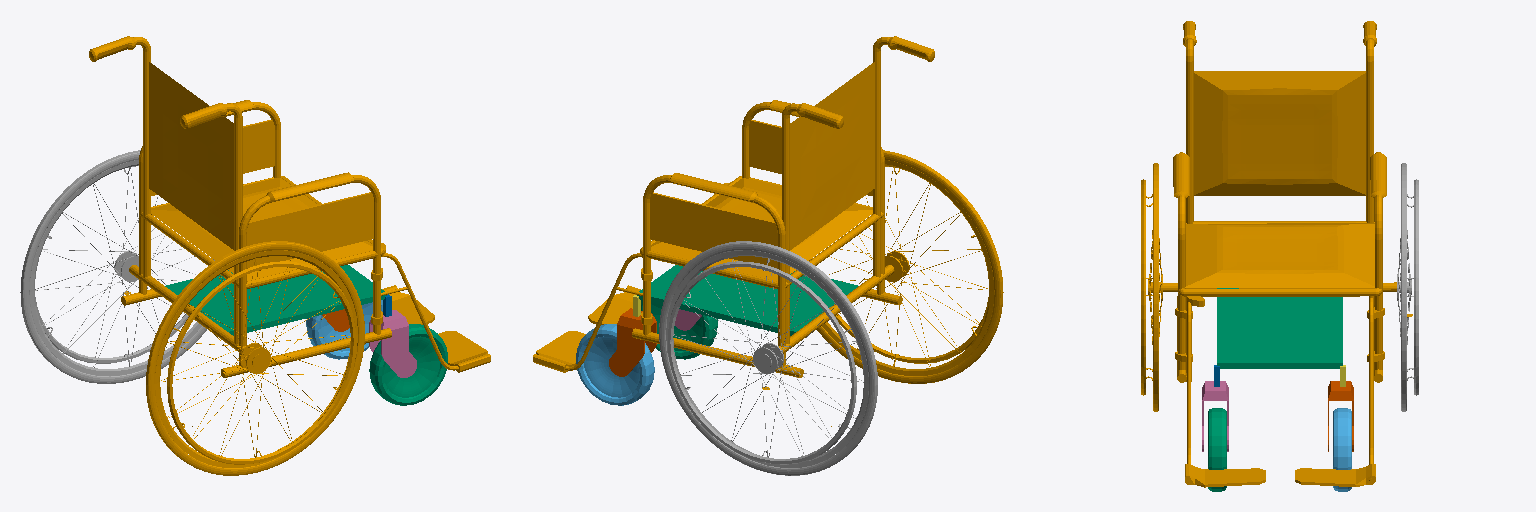
robot.urdf — wheelchair:
<?xml version="1.0" encoding="utf-8"?>
<!-- =================================================================================== -->
<!-- |    This document was autogenerated by xacro from src/wheelchair_description/urdf/wheelchair.xacro | -->
<!-- |    EDITING THIS FILE BY HAND IS NOT RECOMMENDED                                 | -->
<!-- =================================================================================== -->
<robot name="wheelchair" xmlns:xacro="http://www.ros.org/wiki/xacro">
  <gazebo>
    <plugin filename="libgazebo_ros_diff_drive.so" name="differential_drive_controller">
      <legacyMode>false</legacyMode>
      <alwaysOn>true</alwaysOn>
      <updateRate>20</updateRate>
      <leftJoint>axel_l_joint</leftJoint>
      <rightJoint>axel_r_joint</rightJoint>
      <wheelSeparation>0.403568</wheelSeparation>
      <wheelDiameter>0.403568</wheelDiameter>
      <torque>20</torque>
      <commandTopic>cmd_vel</commandTopic>
      <odometryTopic>odom</odometryTopic>
      <odometryFrame>odom</odometryFrame>
      <robotBaseFrame>footprint</robotBaseFrame>
    </plugin>
  </gazebo>
  <gazebo reference="footprint">
    <material>Gazebo/Green</material>
  </gazebo>
  <gazebo reference="l">
    <material>Gazebo/Blue</material>
  </gazebo>
  <gazebo reference="r">
    <material>Gazebo/Blue</material>
  </gazebo>
  <gazebo reference="lf">
    <material>Gazebo/Blue</material>
  </gazebo>
  <gazebo reference="rf">
    <material>Gazebo/Blue</material>
  </gazebo>
  <material name="black">
    <color rgba="0.0 0.0 0.0 1.0"/>
  </material>
  <material name="blue">
    <color rgba="0.0 0.0 0.8 1.0"/>
  </material>
  <material name="green">
    <color rgba="0.0 0.8 0.0 1.0"/>
  </material>
  <material name="grey">
    <color rgba="0.2 0.2 0.2 1.0"/>
  </material>
  <material name="orange">
    <color rgba="1.0 0.423529411765 0.0392156862745 1.0"/>
  </material>
  <material name="brown">
    <color rgba="0.870588235294 0.811764705882 0.764705882353 1.0"/>
  </material>
  <material name="red">
    <color rgba="0.8 0.0 0.0 1.0"/>
  </material>
  <material name="white">
    <color rgba="1.0 1.0 1.0 1.0"/>
  </material>
  <!--
    <gazebo reference="${lr}_wheel">
      <mu1 value="1.0"/>
      <mu2 value="1.0"/>
      <kp  value="10000000.0" />
      <kd  value="1.0" />
      <fdir1 value="1 0 0"/>
      <material>Gazebo/Black</material>
    </gazebo>


    <joint name="${lr}_wheel_hinge" type="continuous">
      <parent link="chassis"/>
      <child link="${lr}_wheel"/>
    <origin xyz="${-wheelPos+chassisLength/2} ${tY*wheelWidth/2+tY*chassisWidth/2} ${wheelRadius}" rpy="0 0 0" />
      <axis xyz="0 1 0" rpy="0 0 0" />
      <limit effort="10000" velocity="10000"/>
      <joint_properties damping="0.0" friction="0.0"/>
    </joint>


    <transmission name="${lr}_trans">
      <type>transmission_interface/SimpleTransmission</type>
      <joint name="${lr}_wheel_hinge">
        <hardwareInterface>EffortJointInterface</hardwareInterface>
      </joint>
      <actuator name="${lr}Motor">
        <hardwareInterface>EffortJointInterface</hardwareInterface>
        <mechanicalReduction>10</mechanicalReduction>
      </actuator>
    </transmission>
  -->
  <link name="footprint">
    <visual>
      <origin rpy=" 0 0 0" xyz="0 0 0"/>
      <geometry>
        <box size="0.001 0.001 0.001"/>
      </geometry>
    </visual>
    <visual>
      <origin rpy="0 0 -3.14" xyz="0 0 0"/>
      <geometry>
        <mesh filename="package://wheelchair_description/meshes/wheelchair_chasis.stl" scale="0.01 0.01 0.01"/>
      </geometry>
    </visual>
  </link>
  <link name="axel">
    <inertial>
      <origin rpy=" 0 0 0" xyz="0 0 0"/>
      <mass value="50.0"/>
      <inertia ixx="0.687416045483" ixy="0" ixz="0" iyy="0.000833333333333" iyz="0" izz="0.000833333333333"/>
    </inertial>
    <collision name="collision">
      <origin rpy=" 0 0 0" xyz="0 0 0}"/>
      <geometry>
        <box size="0.01 0.406054 0.01"/>
      </geometry>
    </collision>
    <visual>
      <origin rpy=" 0 0 0" xyz="0 0 0"/>
      <geometry>
        <box size="0.01 0.406054 0.01"/>
      </geometry>
    </visual>
  </link>
  <joint name="footprint_axel_joint" type="fixed">
    <origin rpy="0 0 0" xyz="0 0 0.201784"/>
    <parent link="footprint"/>
    <child link="axel"/>
  </joint>
  <link name="base">
    <collision name="base_chassis_collision">
      <geometry>
        <box size="0.302676 0.203568 0.01"/>
      </geometry>
    </collision>
    <visual name="base_visual">
      <origin rpy="0 0 0" xyz="0.151338 0 0"/>
      <geometry>
        <box size="0.302676 0.203568 0.01"/>
      </geometry>
    </visual>
    <inertial name="base_intertial">
      <origin rpy="0 0 0" xyz="0.151338 0 0"/>
      <mass value="70.0"/>
      <inertia ixx="0.242316261973" ixy="0" ixz="0" iyy="0.534991105693" iyz="0" izz="0.534991105693"/>
    </inertial>
  </link>
  <joint name="axel_base_joint" type="fixed">
    <origin rpy="0 0 0" xyz="0 0 0"/>
    <parent link="axel"/>
    <child link="base"/>
  </joint>
  <link name="left_leg">
    <collision name="left_leg_chassis_collision">
      <geometry>
        <box size="0.01 0.01 0.0354"/>
      </geometry>
    </collision>
    <visual name="left_leg_visual">
      <origin rpy="0 0 0" xyz="0 0 -0.0177"/>
      <geometry>
        <box size="0.01 0.01 0.0354"/>
      </geometry>
    </visual>
    <inertial name="left_leg_intertial">
      <origin rpy="0 0 0" xyz="0 0 -0.0177"/>
      <mass value="1"/>
      <inertia ixx="0.000112763333333" ixy="0" ixz="0" iyy="0.000112763333333" iyz="0" izz="0.000112763333333"/>
    </inertial>
  </link>
  <joint name="base_left_leg_joint" type="fixed">
    <origin rpy="0 0 0" xyz="0.302676 0.101784 0"/>
    <parent link="base"/>
    <child link="left_leg"/>
  </joint>
  <link name="right_leg">
    <collision name="right_leg_chassis_collision">
      <geometry>
        <box size="0.01 0.01 0.0354"/>
      </geometry>
    </collision>
    <visual name="right_leg_visual">
      <origin rpy="0 0 0" xyz="0 0 -0.0177"/>
      <geometry>
        <box size="0.01 0.01 0.0354"/>
      </geometry>
    </visual>
    <inertial name="right_leg_intertial">
      <origin rpy="0 0 0" xyz="0 0 -0.0177"/>
      <mass value="1"/>
      <inertia ixx="0.000112763333333" ixy="0" ixz="0" iyy="0.000112763333333" iyz="0" izz="0.000112763333333"/>
    </inertial>
  </link>
  <joint name="base_right_leg_joint" type="fixed">
    <origin rpy="0 0 0" xyz="0.302676 -0.101784 0"/>
    <parent link="base"/>
    <child link="right_leg"/>
  </joint>
  <link name="l_rev">
    <collision name="l_rev_collision">
      <origin rpy="0 0 0" xyz=" 0 0 0"/>
      <geometry>
        <cylinder length="0.0356884" radius="0.01"/>
      </geometry>
    </collision>
    <!--
      <visual name="${lr}_visual">
        <transparency>0.1</transparency>
        <origin xyz="${xyz}" rpy="${rpy}" />
        <geometry>
          <cylinder length="${wheelWidth - tY}" radius="${wheelRadius}"/>
        </geometry>

        <material name="green"/>
      </visual>
    -->
    <visual name="l_rev_visual_mesh">
      <origin rpy="0 0 0" xyz=" 0 0 0"/>
      <geometry>
        <mesh filename="package://wheelchair_description/meshes/wheelchair_wheel_rev.stl" scale="0.01 0.01 0.01"/>
      </geometry>
    </visual>
    <inertial name="l_rev_visual_intertial">
      <origin rpy="0 1.57079632679 1.57079632679" xyz="0 0 0"/>
      <mass value="1"/>
      <inertia ixx="0.000131138491213" ixy="0" ixz="0" iyy="0.000131138491213" iyz="0" izz="5e-05"/>
    </inertial>
  </link>
  <joint name="left_leg_l_rev_joint" type="continuous">
    <origin rpy="0 0 0" xyz="0 0 -0.0354"/>
    <child link="l_rev"/>
    <parent link="left_leg"/>
    <axis rpy="0 0 0" xyz="0 0 1"/>
    <limit effort="100" velocity="100"/>
    <joint_properties damping="0.1" friction="0.1"/>
  </joint>
  <link name="r_rev">
    <collision name="r_rev_collision">
      <origin rpy="0 0 0" xyz=" 0 0 0"/>
      <geometry>
        <cylinder length="0.0356884" radius="0.01"/>
      </geometry>
    </collision>
    <!--
      <visual name="${lr}_visual">
        <transparency>0.1</transparency>
        <origin xyz="${xyz}" rpy="${rpy}" />
        <geometry>
          <cylinder length="${wheelWidth - tY}" radius="${wheelRadius}"/>
        </geometry>

        <material name="green"/>
      </visual>
    -->
    <visual name="r_rev_visual_mesh">
      <origin rpy="0 0 0" xyz=" 0 0 0"/>
      <geometry>
        <mesh filename="package://wheelchair_description/meshes/wheelchair_wheel_rev.stl" scale="0.01 0.01 0.01"/>
      </geometry>
    </visual>
    <inertial name="r_rev_visual_intertial">
      <origin rpy="0 1.57079632679 1.57079632679" xyz="0 0 0"/>
      <mass value="1"/>
      <inertia ixx="0.000131138491213" ixy="0" ixz="0" iyy="0.000131138491213" iyz="0" izz="5e-05"/>
    </inertial>
  </link>
  <joint name="right_leg_r_rev_joint" type="continuous">
    <origin rpy="0 0 0" xyz="0 0 -0.0354"/>
    <child link="r_rev"/>
    <parent link="right_leg"/>
    <axis rpy="0 0 0" xyz="0 0 1"/>
    <limit effort="100" velocity="100"/>
    <joint_properties damping="0.1" friction="0.1"/>
  </joint>
  <!--
  <chassis name="right_leg_b" xyz="0 0 ${-small_wheel_radius}" rpy="0 0 0" m="${legs_weight}" chassisLength="${legs_length}" chassisWidth="${legs_width}" chassisHeight="${2*small_wheel_radius}"/>
  <link_joint parent="r_rev" child ="right_leg_b" xyz="0 0 0" rpy="0 0 0" type="fixed"/>
-->
  <link name="l">
    <collision name="l_collision">
      <origin rpy="-1.57079632679 0 0" xyz=" 0 0 0"/>
      <geometry>
        <cylinder length="0.0356884" radius="0.201784"/>
      </geometry>
    </collision>
    <!--
      <visual name="${lr}_visual">
        <transparency>0.1</transparency>
        <origin xyz="${xyz}" rpy="${rpy}" />
        <geometry>
          <cylinder length="${wheelWidth - tY}" radius="${wheelRadius}"/>
        </geometry>

        <material name="green"/>
      </visual>
    -->
    <visual name="l_visual_mesh">
      <origin rpy="-1.57079632679 0 0" xyz=" 0 0 0"/>
      <geometry>
        <mesh filename="package://wheelchair_description/meshes/wheelchair_wheel.stl" scale="0.01 0.01 0.01"/>
      </geometry>
    </visual>
    <inertial name="l_visual_intertial">
      <origin rpy="0 1.57079632679 1.57079632679" xyz="0 0 0"/>
      <mass value="3.0"/>
      <inertia ixx="0.0308560024656" ixy="0" ixz="0" iyy="0.0308560024656" iyz="0" izz="0.061075173984"/>
    </inertial>
  </link>
  <joint name="axel_l_joint" type="continuous">
    <origin rpy="0 0 0" xyz="0 0.201784 0"/>
    <child link="l"/>
    <parent link="axel"/>
    <axis rpy="0 0 0" xyz="0 1 0"/>
    <limit effort="100" velocity="100"/>
    <joint_properties damping="0.1" friction="0.1"/>
  </joint>
  <link name="r">
    <collision name="r_collision">
      <origin rpy="1.57079632679 0 0" xyz=" 0 0 0"/>
      <geometry>
        <cylinder length="0.0356884" radius="0.201784"/>
      </geometry>
    </collision>
    <!--
      <visual name="${lr}_visual">
        <transparency>0.1</transparency>
        <origin xyz="${xyz}" rpy="${rpy}" />
        <geometry>
          <cylinder length="${wheelWidth - tY}" radius="${wheelRadius}"/>
        </geometry>

        <material name="green"/>
      </visual>
    -->
    <visual name="r_visual_mesh">
      <origin rpy="1.57079632679 0 0" xyz=" 0 0 0"/>
      <geometry>
        <mesh filename="package://wheelchair_description/meshes/wheelchair_wheel.stl" scale="0.01 0.01 0.01"/>
      </geometry>
    </visual>
    <inertial name="r_visual_intertial">
      <origin rpy="0 1.57079632679 1.57079632679" xyz="0 0 0"/>
      <mass value="3.0"/>
      <inertia ixx="0.0308560024656" ixy="0" ixz="0" iyy="0.0308560024656" iyz="0" izz="0.061075173984"/>
    </inertial>
  </link>
  <joint name="axel_r_joint" type="continuous">
    <origin rpy="0 0 0" xyz="0 -0.201784 0"/>
    <child link="r"/>
    <parent link="axel"/>
    <axis rpy="0 0 0" xyz="0 1 0"/>
    <limit effort="100" velocity="100"/>
    <joint_properties damping="0.1" friction="0.1"/>
  </joint>
  <link name="lf">
    <collision name="lf_collision">
      <origin rpy="1.57079632679 0 0" xyz=" 0 0 0"/>
      <geometry>
        <cylinder length="0.032" radius="0.068"/>
      </geometry>
    </collision>
    <!--
      <visual name="${lr}_visual">
        <transparency>0.1</transparency>
        <origin xyz="${xyz}" rpy="${rpy}" />
        <geometry>
          <cylinder length="${wheelWidth - tY}" radius="${wheelRadius}"/>
        </geometry>

        <material name="green"/>
      </visual>
    -->
    <visual name="lf_visual_mesh">
      <origin rpy="1.57079632679 0 0" xyz=" 0 0 0"/>
      <geometry>
        <mesh filename="package://wheelchair_description/meshes/wheelchair_wheel_small.stl" scale="0.01 0.01 0.01"/>
      </geometry>
    </visual>
    <inertial name="lf_visual_intertial">
      <origin rpy="0 1.57079632679 1.57079632679" xyz="0 0 0"/>
      <mass value="1.0"/>
      <inertia ixx="0.00124133333333" ixy="0" ixz="0" iyy="0.00124133333333" iyz="0" izz="0.002312"/>
    </inertial>
  </link>
  <joint name="l_rev_lf_joint" type="continuous">
    <origin rpy="0 0 0" xyz="0.04 0 -0.096"/>
    <child link="lf"/>
    <parent link="l_rev"/>
    <axis rpy="0 0 0" xyz="0 1 0"/>
    <limit effort="100" velocity="100"/>
    <joint_properties damping="0.1" friction="0.1"/>
  </joint>
  <link name="rf">
    <collision name="rf_collision">
      <origin rpy="1.57079632679 0 0" xyz=" 0 0 0"/>
      <geometry>
        <cylinder length="0.032" radius="0.068"/>
      </geometry>
    </collision>
    <!--
      <visual name="${lr}_visual">
        <transparency>0.1</transparency>
        <origin xyz="${xyz}" rpy="${rpy}" />
        <geometry>
          <cylinder length="${wheelWidth - tY}" radius="${wheelRadius}"/>
        </geometry>

        <material name="green"/>
      </visual>
    -->
    <visual name="rf_visual_mesh">
      <origin rpy="1.57079632679 0 0" xyz=" 0 0 0"/>
      <geometry>
        <mesh filename="package://wheelchair_description/meshes/wheelchair_wheel_small.stl" scale="0.01 0.01 0.01"/>
      </geometry>
    </visual>
    <inertial name="rf_visual_intertial">
      <origin rpy="0 1.57079632679 1.57079632679" xyz="0 0 0"/>
      <mass value="1.0"/>
      <inertia ixx="0.00124133333333" ixy="0" ixz="0" iyy="0.00124133333333" iyz="0" izz="0.002312"/>
    </inertial>
  </link>
  <joint name="r_rev_rf_joint" type="continuous">
    <origin rpy="0 0 0" xyz="0.04 0 -0.096"/>
    <child link="rf"/>
    <parent link="r_rev"/>
    <axis rpy="0 0 0" xyz="0 1 0"/>
    <limit effort="100" velocity="100"/>
    <joint_properties damping="0.1" friction="0.1"/>
  </joint>
</robot>

--- What the picture shows (computed from the rendered views, not written in the file) ---
The picture shows the robot from 3 angles, left to right: view 1: azimuth 30°, elevation 25°; view 2: azimuth 150°, elevation 25°; view 3: azimuth 270°, elevation 25°; orthographic projection.
Model wheelchair with 11 links and 10 joints (6 continuous, 4 fixed), rooted at footprint, posed every joint at zero.
Links seen in each view (by area): view 1: footprint, r, l, base, rf, r_rev, lf; view 2: footprint, l, r, base, lf, l_rev, rf; view 3: footprint, base, r, l, lf, rf, r_rev, l_rev.
Link boxes in pixels (<box>): footprint: <box>89,36,490,426</box>; r: <box>146,241,364,475</box>; l: <box>20,150,214,383</box>; base: <box>165,265,386,335</box>; rf: <box>369,324,447,405</box>; r_rev: <box>369,310,416,377</box>; lf: <box>306,300,382,359</box>; footprint: <box>533,36,934,426</box>; l: <box>659,241,877,475</box>; r: <box>809,150,1003,383</box>; base: <box>637,265,857,335</box>; lf: <box>576,324,654,405</box>; l_rev: <box>609,308,656,376</box>; rf: <box>641,300,717,359</box>; footprint: <box>1163,21,1412,487</box>; base: <box>1217,288,1342,368</box>; r: <box>1141,163,1162,411</box>; l: <box>1397,163,1418,411</box>; lf: <box>1333,408,1351,491</box>; rf: <box>1208,408,1226,491</box>; r_rev: <box>1202,381,1228,451</box>; l_rev: <box>1328,381,1353,451</box>.
Size in the robot's own frame: 0.6804 by 0.4522 by 0.6406 metres.
Meshes: 4 distinct files referenced, 7 mesh visuals loaded (4 binary STL).
